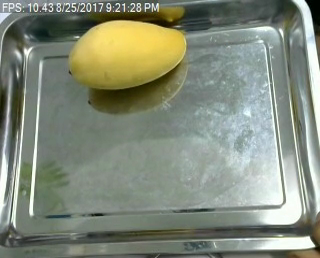Mango: (69, 20, 189, 91)
